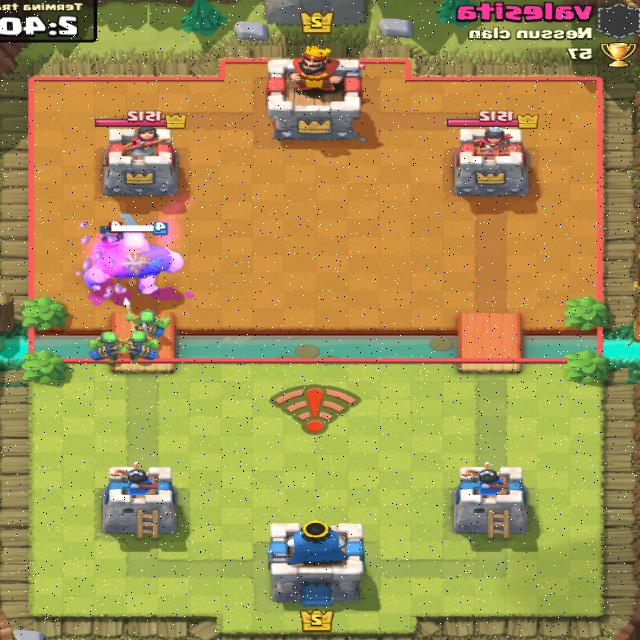Player-Giant: (80, 218, 181, 303)
Player-SpearGoblin: (74, 324, 125, 370), (130, 316, 175, 354)
